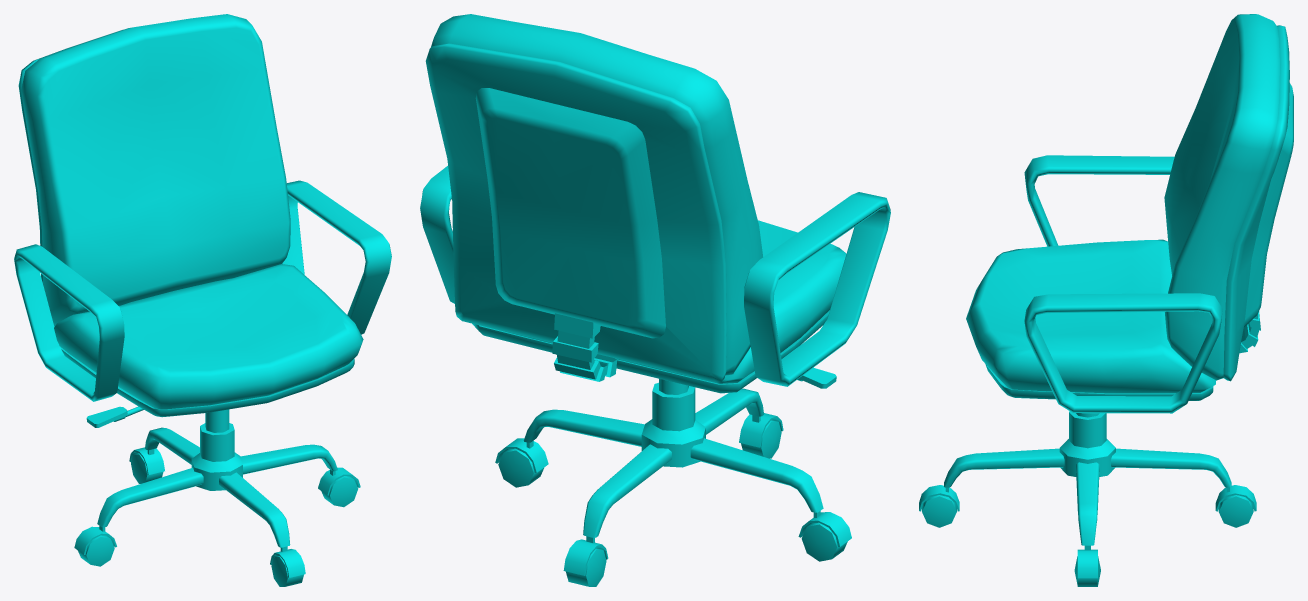
The model's file is chair2.fbx.
3 renders of one model, left to right at view 1: azimuth 30°, elevation 25°; view 2: azimuth 150°, elevation 25°; view 3: azimuth 270°, elevation 25°, orthographic. The views are drawn at different scales.
Visible parts, largest first — view 1: chair2; view 2: chair2; view 3: chair2.
Boxes of the visible parts, x1=… form: chair2: x1=14, y1=14, x2=391, y2=586; chair2: x1=420, y1=14, x2=890, y2=586; chair2: x1=919, y1=14, x2=1293, y2=586.
Bounding box in the file's own units: 68.82 × 99.48 × 71.72.
